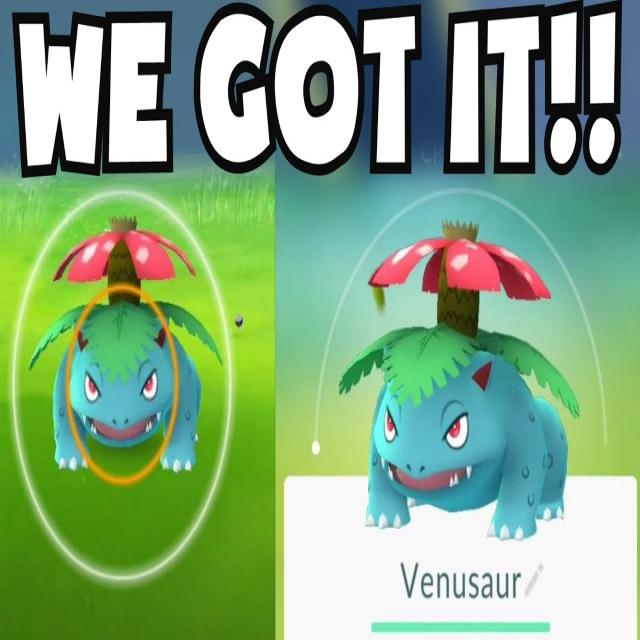Venusaur: (317, 220, 590, 575), (29, 200, 224, 520)
